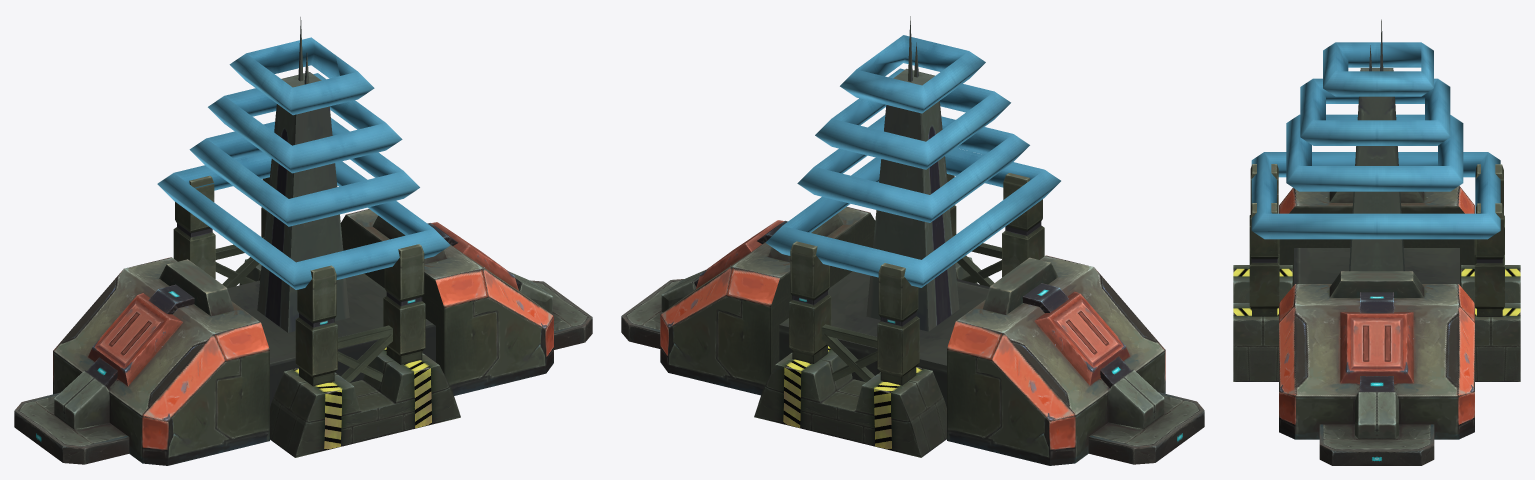
File: Map02_FaDmJiM_02.FBX
3 views of the same model, side by side, from view 1: azimuth 30°, elevation 25°; view 2: azimuth 150°, elevation 25°; view 3: azimuth 270°, elevation 25° (orthographic). The views are drawn at different scales.
Parts seen in each view (by area): view 1: Map02_FaDmJiM_02; view 2: Map02_FaDmJiM_02; view 3: Map02_FaDmJiM_02.
Part boxes in pixels (<box>): Map02_FaDmJiM_02: <box>14,17,592,465</box>; Map02_FaDmJiM_02: <box>621,16,1204,465</box>; Map02_FaDmJiM_02: <box>1233,19,1520,465</box>.
Bounding box in the file's own units: 3456 × 2275 × 1776.
